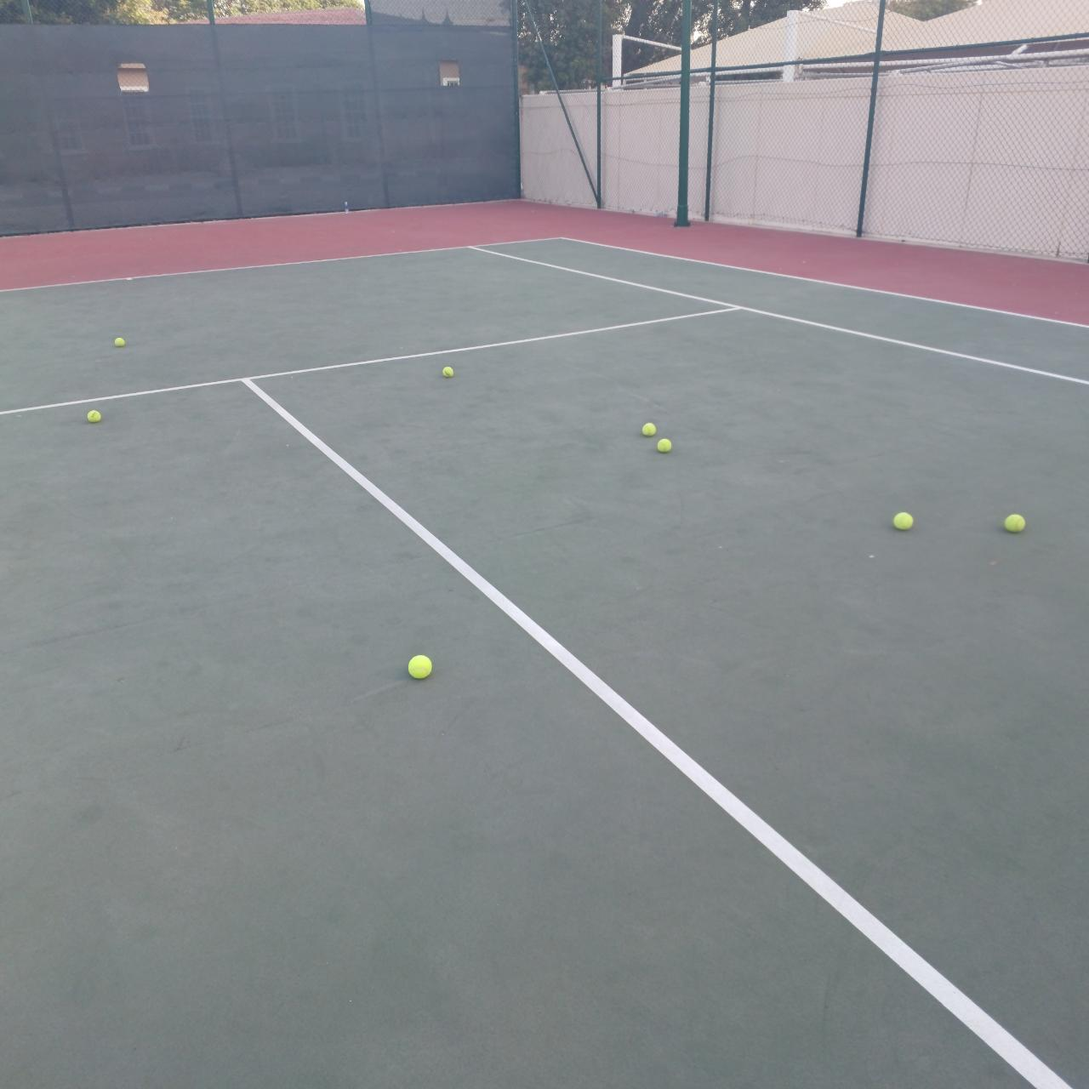tennis-ball: (406, 651, 433, 680), (1002, 511, 1025, 533), (892, 510, 913, 530), (655, 436, 672, 453), (640, 420, 656, 436), (440, 363, 454, 378), (87, 409, 101, 423), (114, 337, 125, 347)
